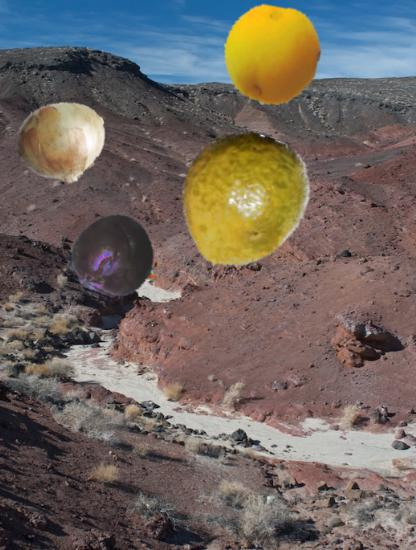Guava: (172, 132, 313, 273)
Onion: (18, 97, 109, 188)
Passion: (71, 211, 159, 299)
Peach: (220, 4, 323, 107)
